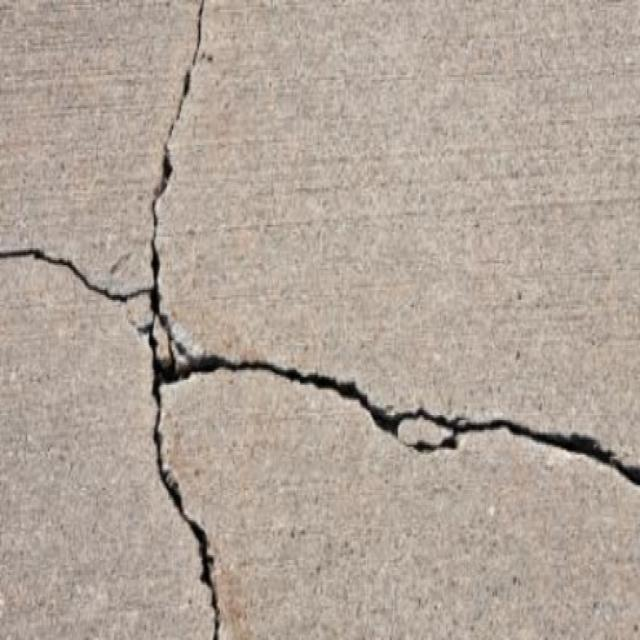Diagonal: (488, 418, 640, 492)
Longitudinal: (142, 418, 241, 640), (142, 1, 205, 267)
Radial: (118, 272, 195, 313)
Transverse: (214, 344, 354, 424)
Turtle-shell patterned: (360, 388, 483, 490), (1, 237, 118, 315), (130, 315, 208, 403)
